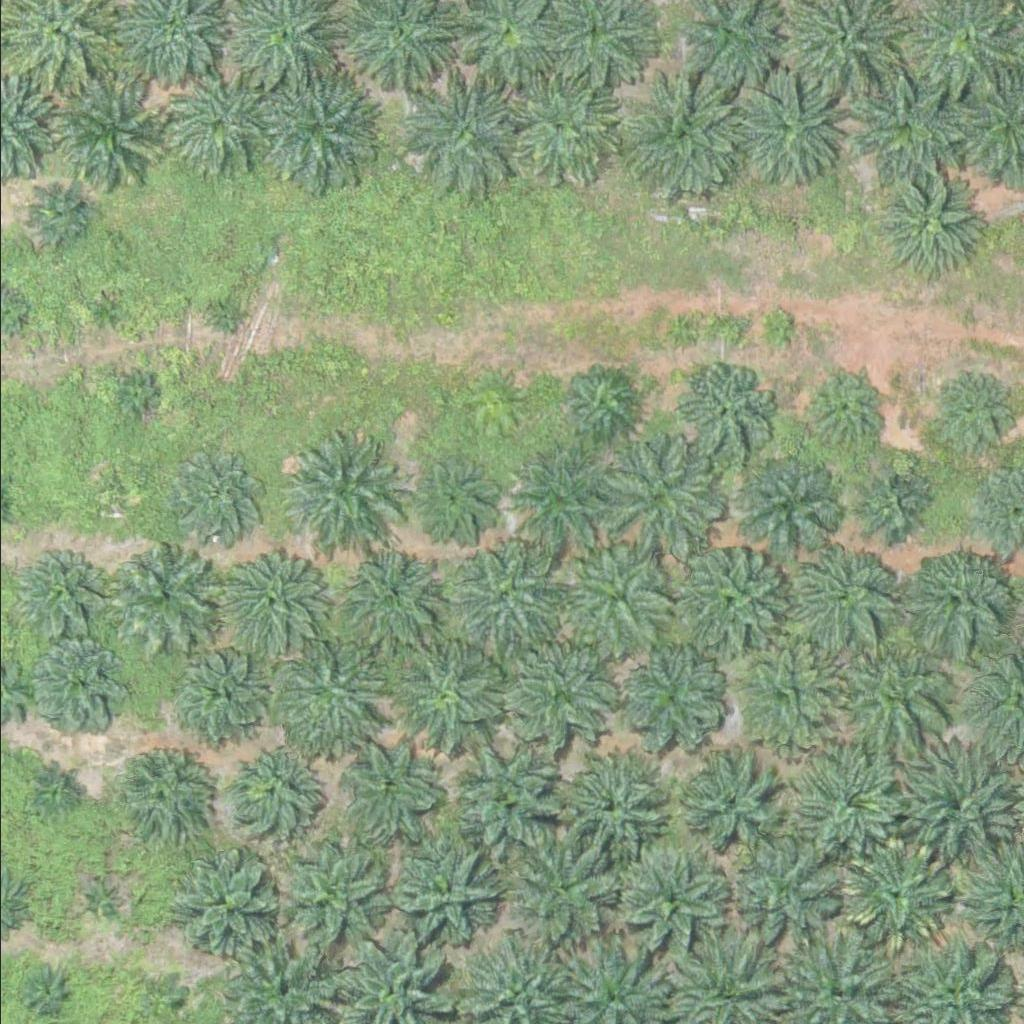Kelapa_Sawit: (721, 70, 847, 195), (625, 69, 751, 194), (599, 431, 725, 556), (495, 64, 621, 189), (395, 68, 521, 193), (250, 64, 376, 189), (30, 75, 156, 200), (279, 424, 405, 549), (265, 834, 391, 959), (265, 636, 390, 761), (836, 640, 949, 753), (730, 634, 843, 747), (669, 546, 782, 659), (785, 536, 898, 649), (901, 546, 1014, 659), (866, 167, 979, 280), (619, 644, 732, 757), (549, 752, 662, 865), (109, 535, 222, 648), (504, 639, 617, 752), (391, 639, 504, 752), (453, 737, 566, 850), (163, 851, 276, 964), (851, 73, 965, 185), (501, 831, 615, 943), (840, 839, 953, 951), (724, 838, 837, 950), (671, 745, 784, 857), (795, 745, 908, 857), (897, 752, 1010, 864), (615, 846, 728, 958), (553, 544, 666, 656), (502, 445, 615, 557), (446, 540, 559, 652), (213, 542, 326, 654), (389, 833, 502, 945), (732, 456, 833, 556), (160, 75, 261, 175), (165, 445, 266, 545), (337, 548, 438, 648), (165, 646, 266, 746), (337, 736, 438, 836), (220, 738, 321, 838), (107, 736, 208, 836), (30, 641, 131, 741), (670, 360, 770, 460), (924, 369, 1012, 457), (796, 367, 884, 455), (413, 457, 501, 544), (10, 554, 98, 641), (560, 366, 636, 441), (854, 468, 929, 543), (28, 186, 91, 249), (25, 966, 75, 1016), (73, 871, 123, 921), (87, 295, 125, 333), (206, 296, 244, 334), (755, 310, 793, 347), (32, 773, 69, 811), (94, 481, 131, 519), (113, 377, 151, 414)
